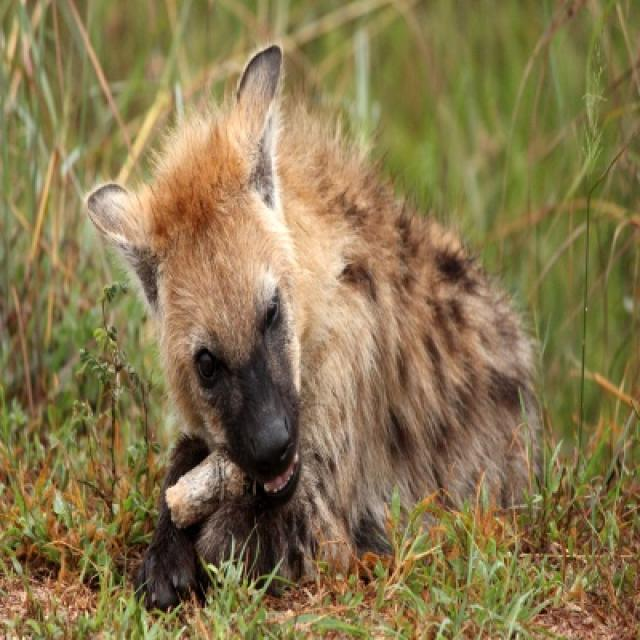hyena: (85, 45, 538, 608)
